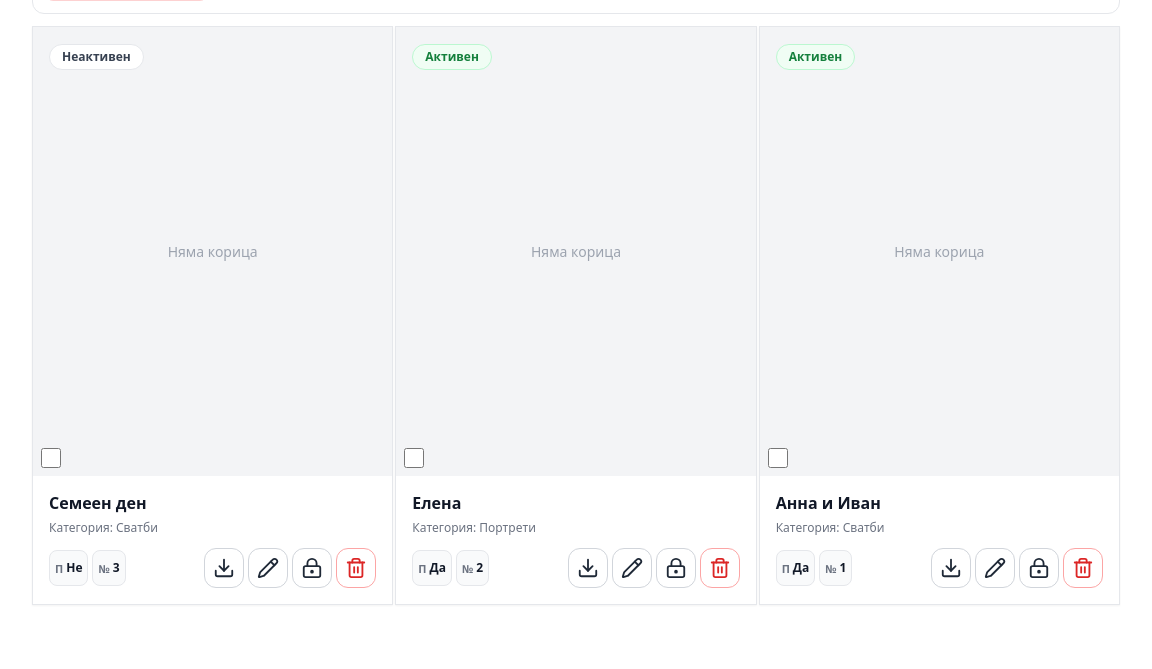
Test: album management › downloads exactly the selected albums, including selection outside the filter
(page scrolled)
Expected: the checkbox named "Маркирай албум „Семеен ден“" is shown, [41,448,61,468]
Click the checkbox named "Маркирай албум „Анна и Иван“": point(778, 458) [768,448,788,468]
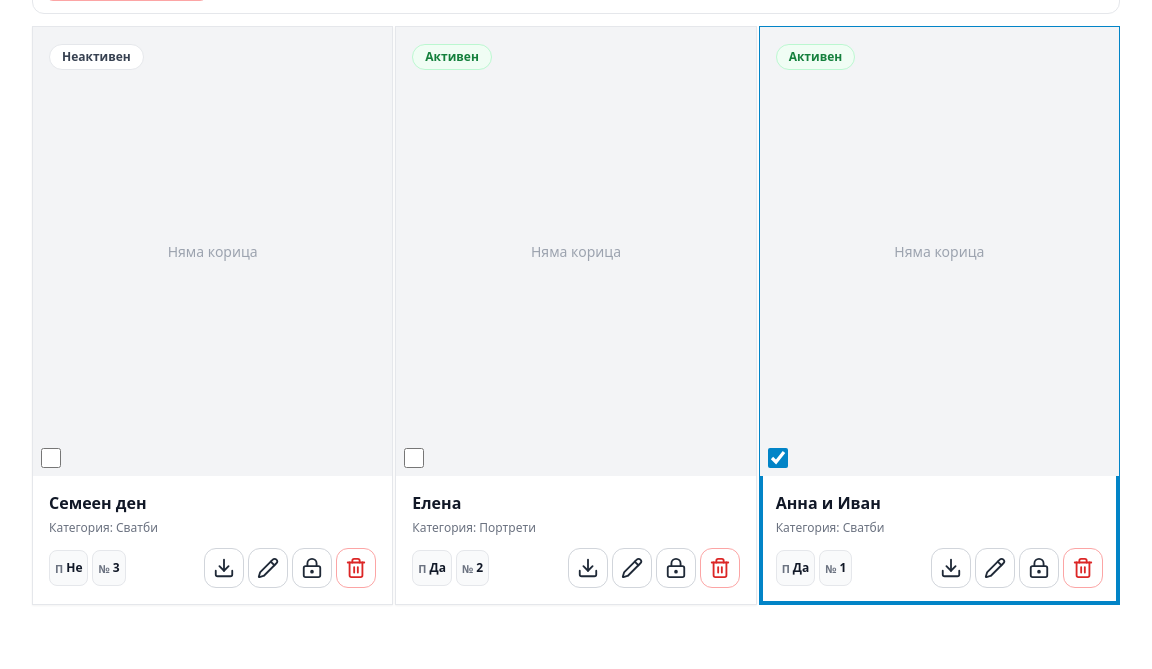
Click the checkbox named "Маркирай албум „Елена“": point(414, 458) [404,448,424,468]
(page scrolled)
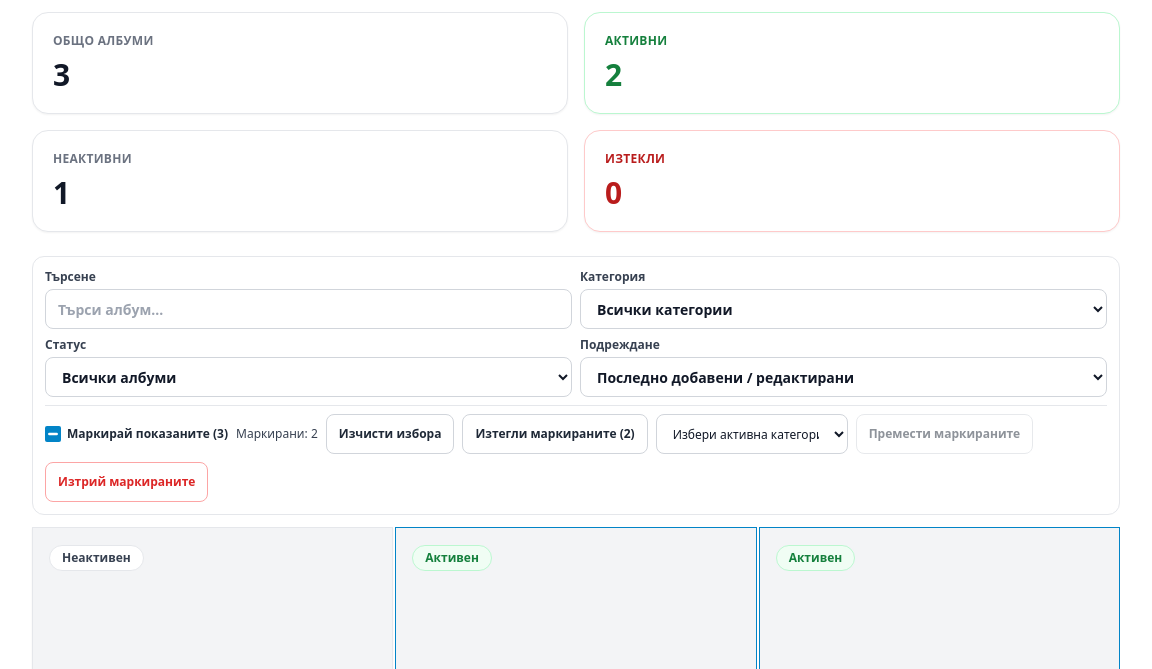
Select "Сватби" in the dropdown labelled "Категория": point(844, 309) [580,289,1107,329]
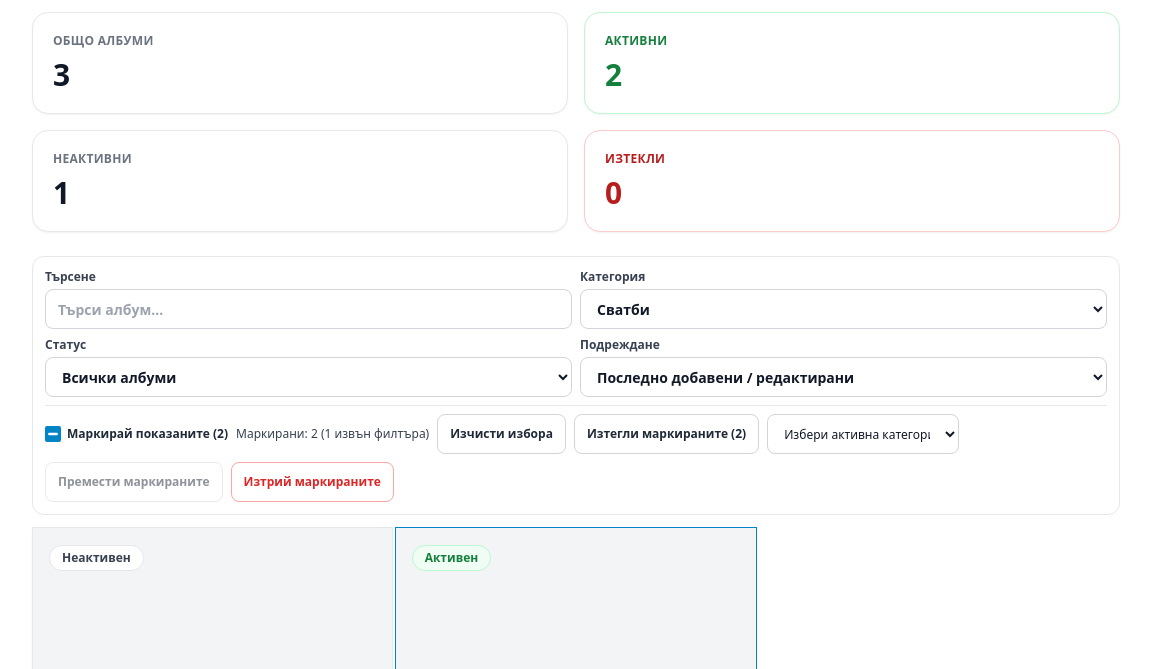
Click the button "Изтегли маркираните (2)": point(667, 434) [574,414,759,454]
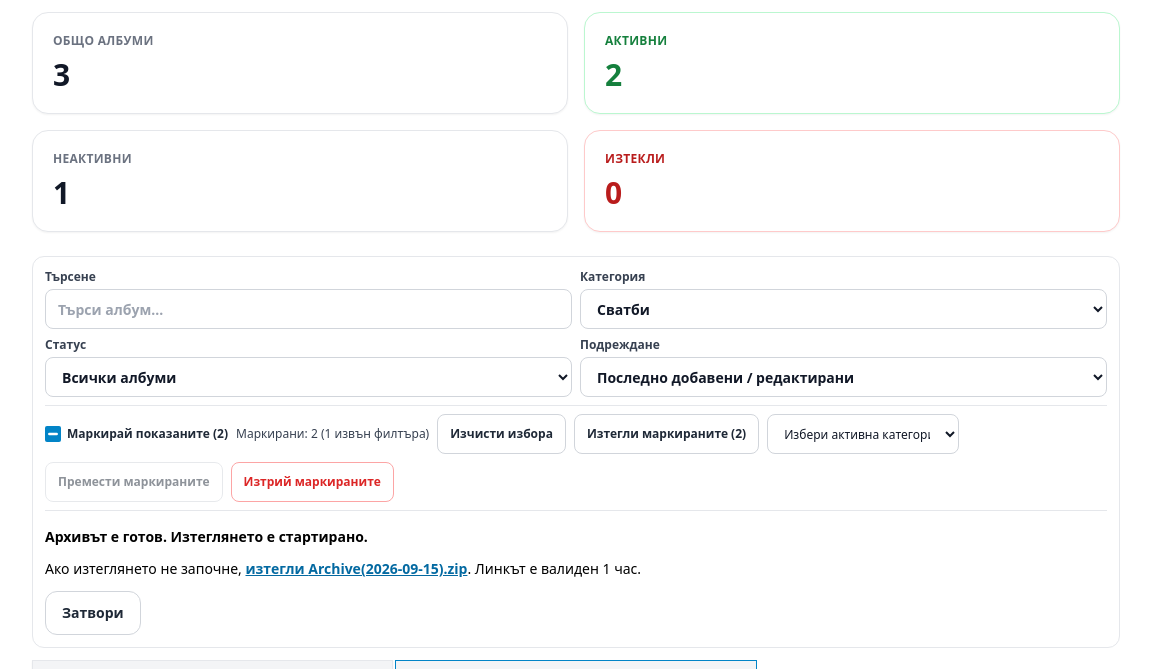
Now the text "Архивът е готов. Изтеглянето е стартирано." is shown, box [45,527,368,546]
